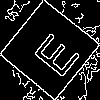E: (24, 24, 81, 80)
